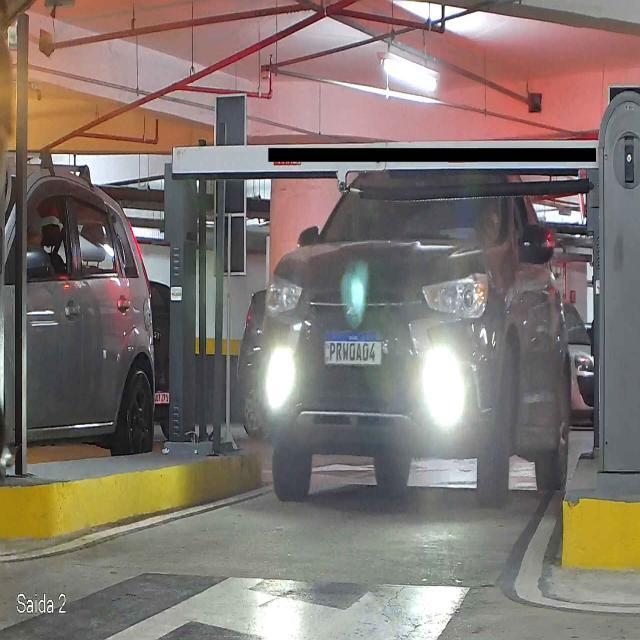mercosul_plate: (319, 329, 386, 369)
